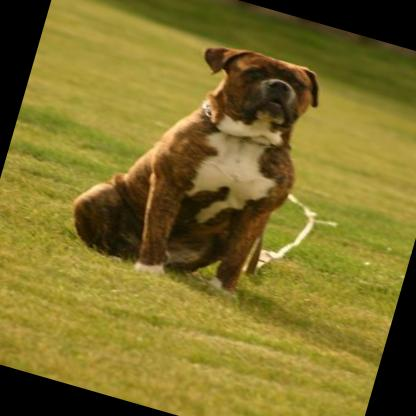bull_mastiff: (65, 15, 333, 304)
